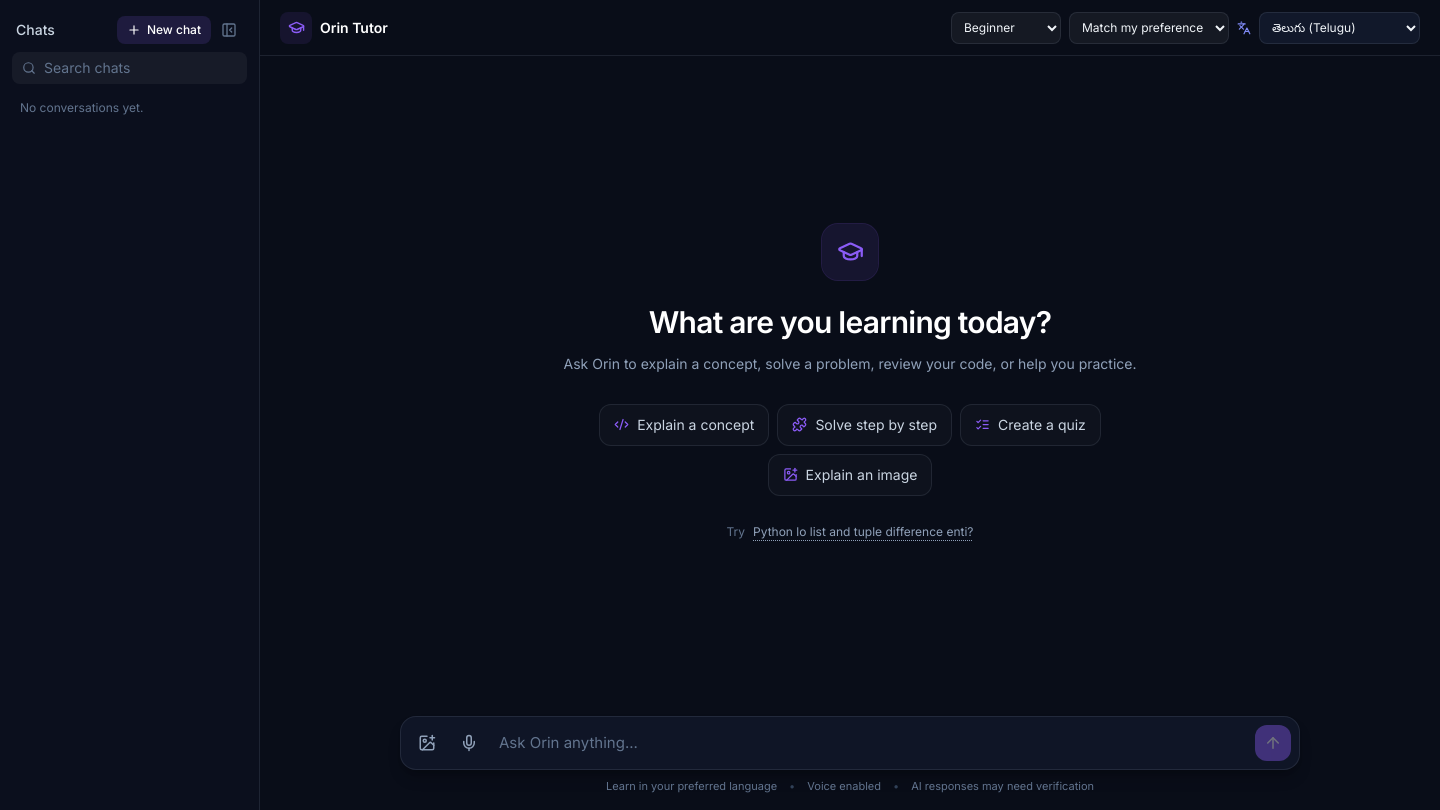
Scenario: sending › text-only chat still goes to the JSON endpoint with no image
Type "what is a tuple" into the text box named "Message".
click(871, 742); type("what is a tuple")  # box x1=493 y1=724 x2=1249 y2=760
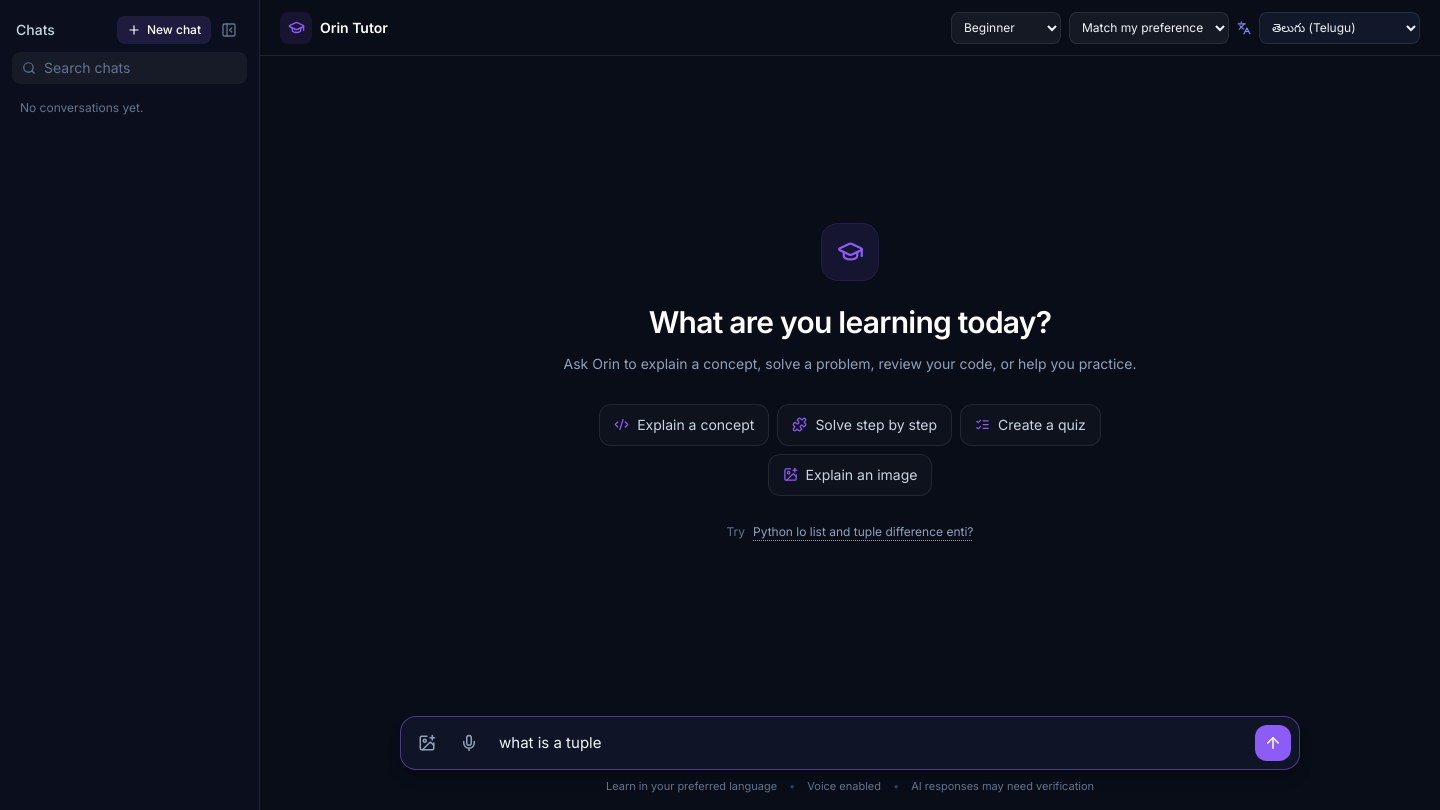
Click the button named "Send message".
click(1273, 742)  # box x1=1255 y1=724 x2=1291 y2=760
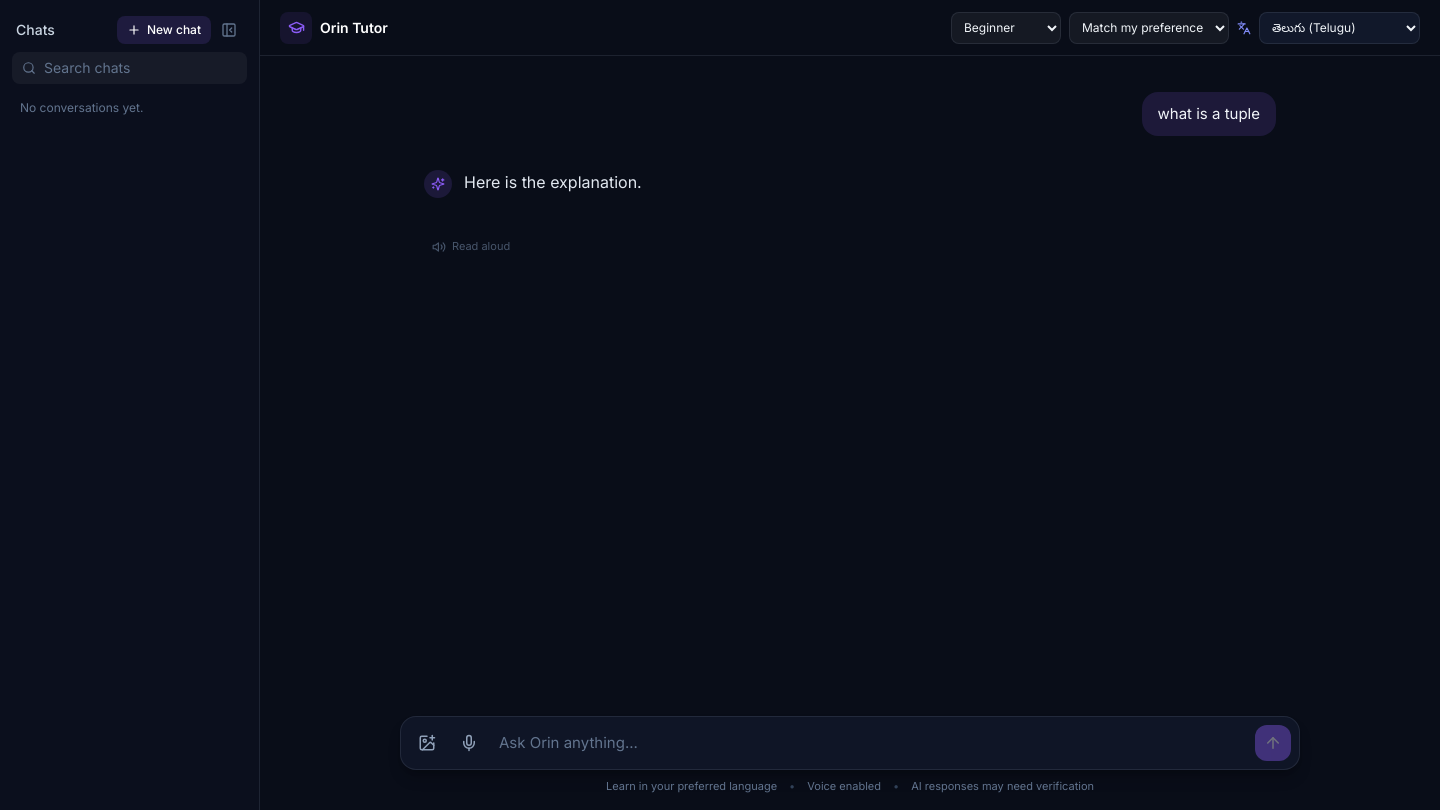
Expected: the text "Here is the explanation." is shown, x1=464 y1=172 x2=642 y2=192
